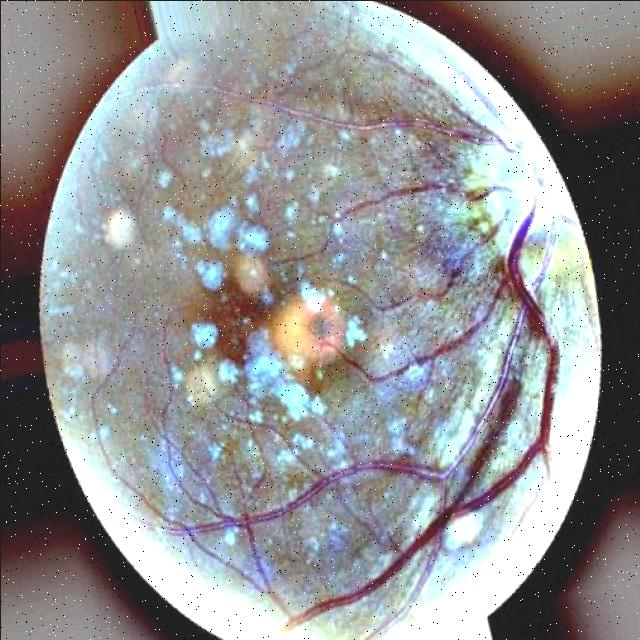Macula: (194, 276, 350, 402)
Nerves: (131, 279, 568, 632), (86, 42, 510, 236), (75, 309, 216, 505), (298, 211, 510, 313)
Optic Disk: (477, 106, 589, 275)
